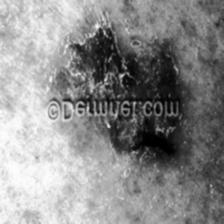Potentially Malignant Skin Tumors: (49, 30, 182, 152)
